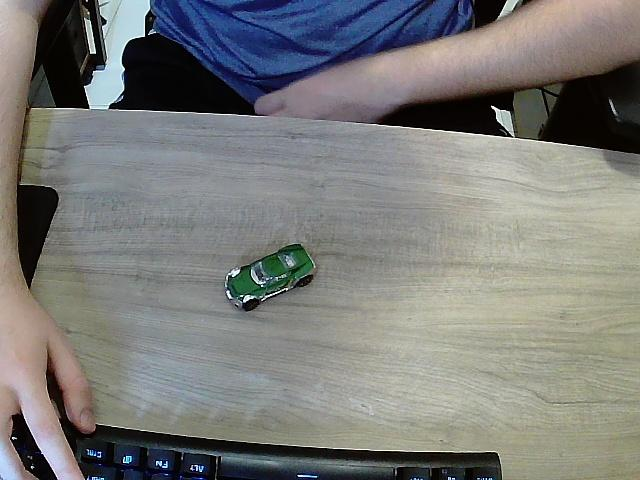Carro: (226, 245, 316, 312)
